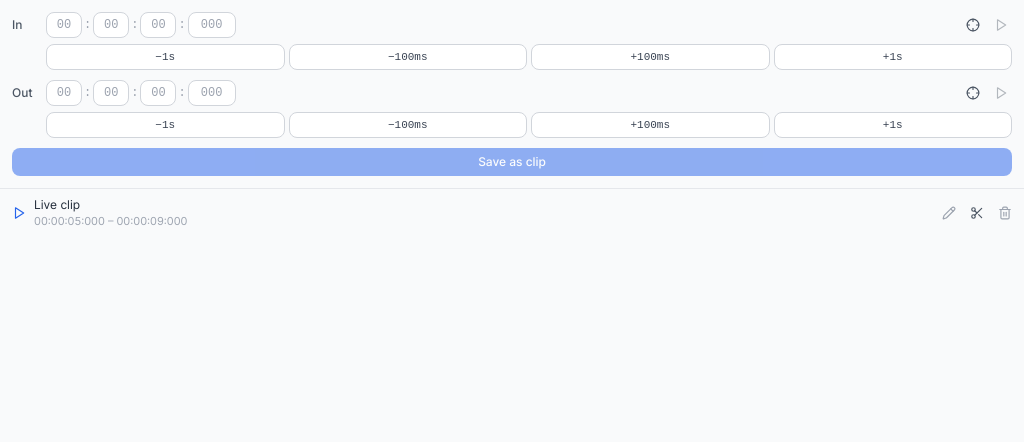
Scenario: ClipEditor, deleting a clip › re-trims an existing clip from its row, and the row shows the new times
Click the button named "Edit this clip's times": (949, 213) [942,206,956,220]
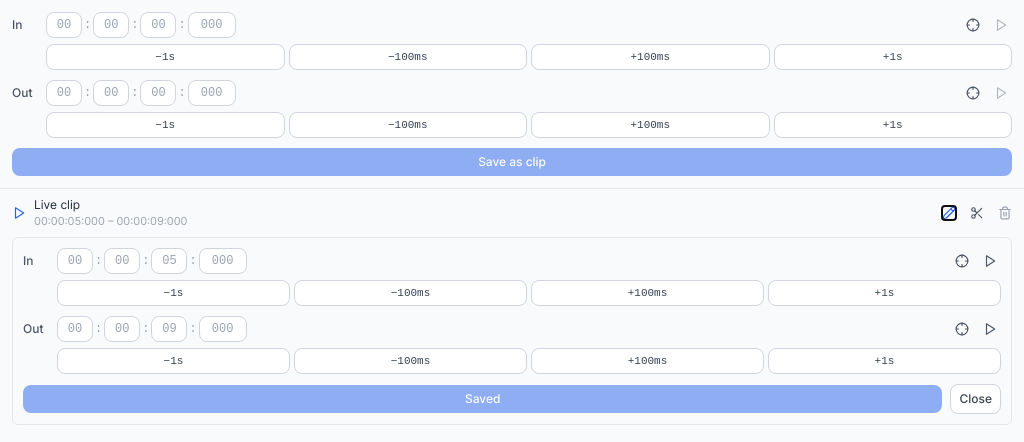
Click the button with aria-label "In point −100ms": (410, 293) [294,280,527,306]
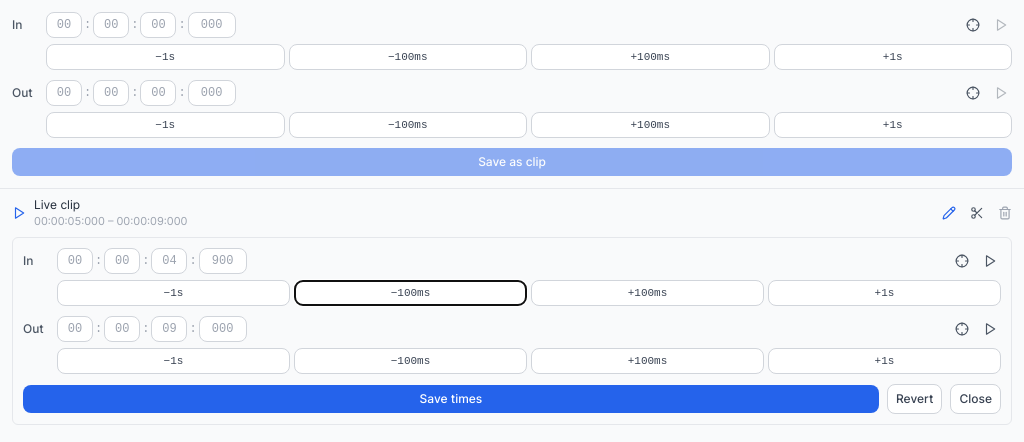
Click the button "Save times": (451, 399) [23,385,879,413]
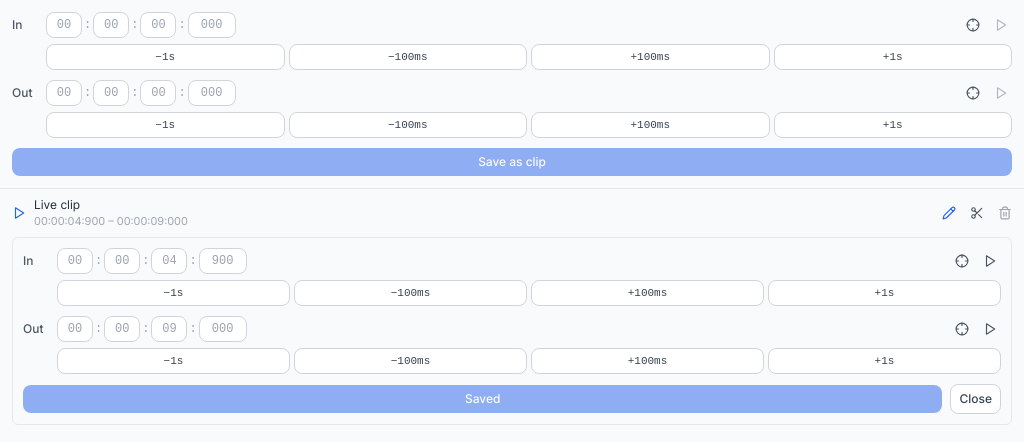
Expected: the text "00:00:04:900 – 00:00:09:000" is shown, [34,214,188,228]
